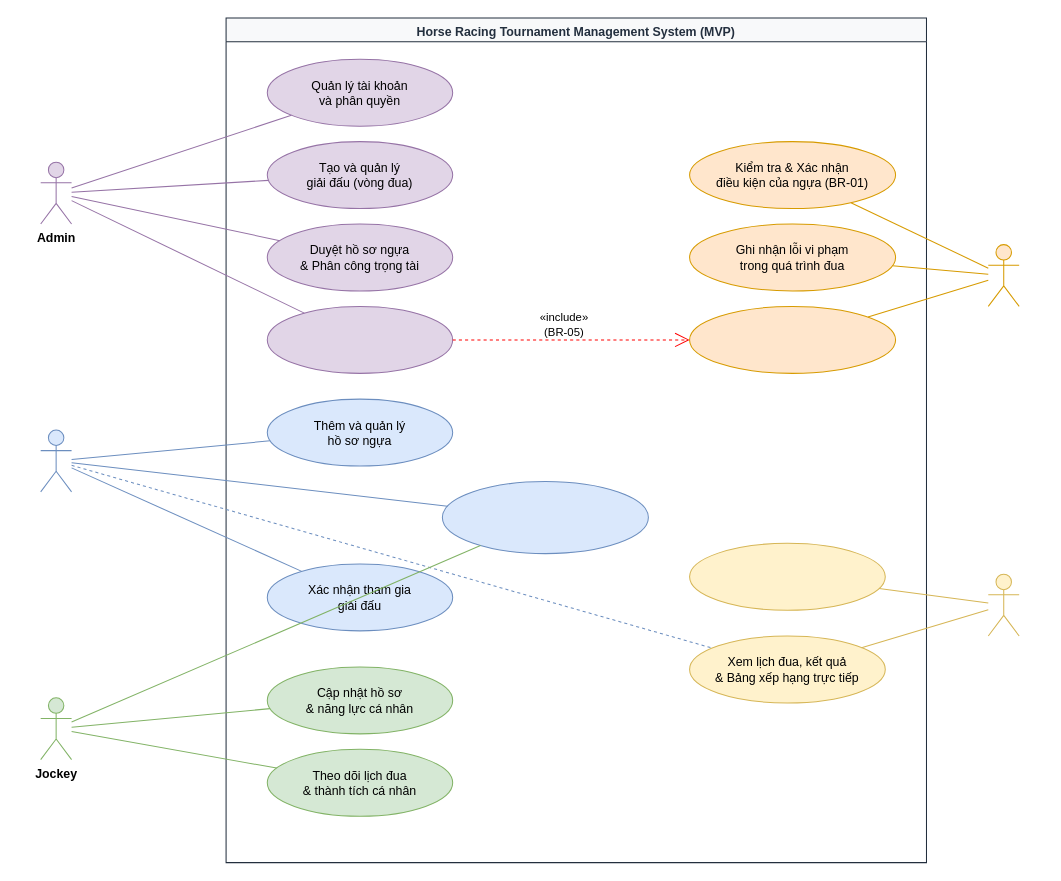
The diagram is 1061 pixels wide and 881 high, and some of its shapes have lost their labels. Here are the shapes that lost their labels. From the top down, the centre of each, then its label:
(x=1003, y=275): Race Referee
(x=359, y=339): Công bố kết quả thi đấu chính thức
(x=792, y=339): Lập biên bản thi đấu & Submit kết quả (BR-05)
(x=56, y=460): Horse Owner
(x=544, y=517): Giao dịch thuê Jockey (Gửi & phản hồi lời mời)
(x=787, y=576): Đăng ký tài khoản (Khán giả/Chủ ngựa)
(x=1003, y=604): Spectator
